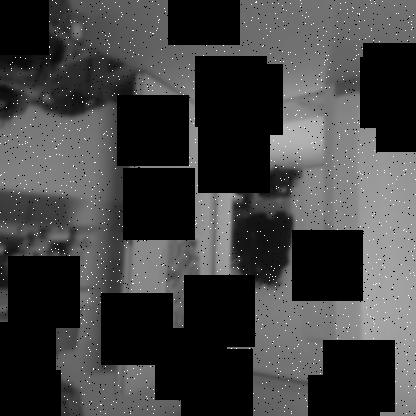Porte: (110, 68, 341, 402)
